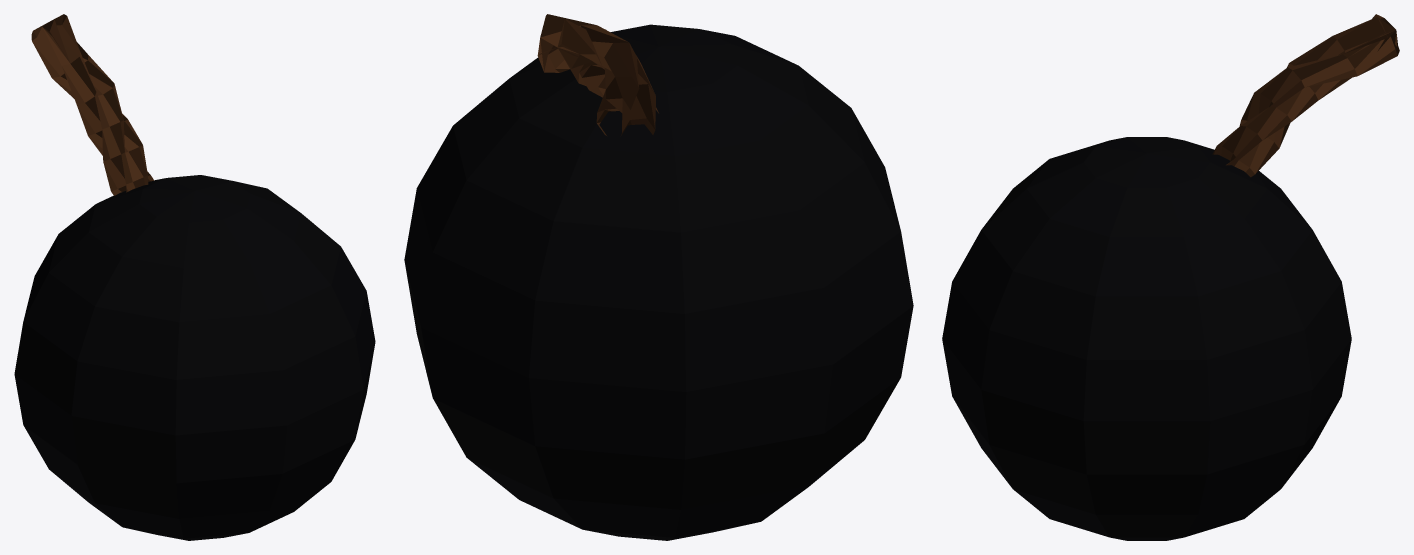
File: bomb.fbx
3 renders of one model, left to right at view 1: azimuth 30°, elevation 25°; view 2: azimuth 150°, elevation 25°; view 3: azimuth 270°, elevation 25°, orthographic. The views are drawn at different scales.
Visible parts, largest first — view 1: bomb_body, bomb_fuse; view 2: bomb_body, bomb_fuse; view 3: bomb_body, bomb_fuse.
Part boxes in pixels (x1,y1,x2,y2): bomb_body: [14, 175, 375, 540]; bomb_fuse: [31, 14, 154, 195]; bomb_body: [404, 24, 913, 540]; bomb_fuse: [537, 14, 658, 136]; bomb_body: [942, 137, 1351, 540]; bomb_fuse: [1212, 14, 1399, 177].
Bounding box in the file's own units: 132 × 183 × 155.
